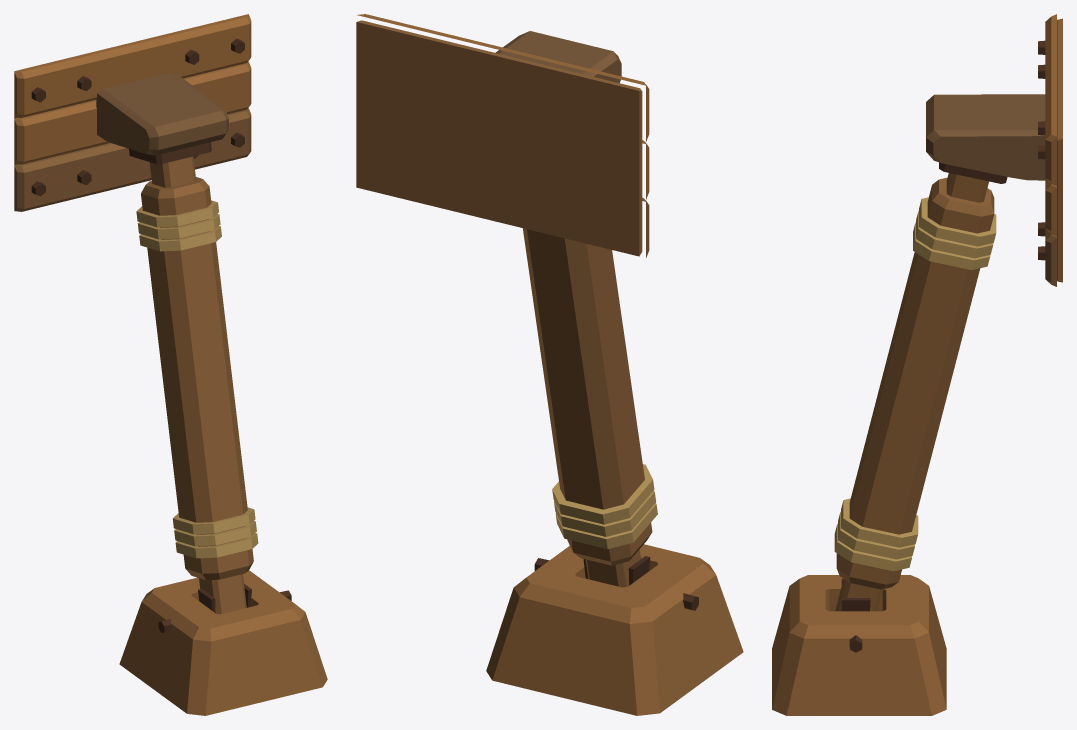
Rendered from retrofit-wall-buttress-4e89f7.glb.
The picture shows the model from 3 angles, left to right: view 1: azimuth 30°, elevation 25°; view 2: azimuth 150°, elevation 25°; view 3: azimuth 270°, elevation 25°; orthographic projection. The views are drawn at different scales.
Visible parts, largest first — view 1: wall-mount-mesh, brace-mesh, foot-mesh; view 2: wall-mount-mesh, foot-mesh, brace-mesh; view 3: brace-mesh, foot-mesh, wall-mount-mesh.
Boxes of the visible parts, box(x1,y1,x2,y2) form: wall-mount-mesh: box(14, 14, 251, 211); brace-mesh: box(136, 156, 258, 614); foot-mesh: box(119, 570, 327, 715); wall-mount-mesh: box(356, 14, 649, 257); foot-mesh: box(486, 544, 743, 715); brace-mesh: box(523, 228, 657, 587); brace-mesh: box(834, 173, 996, 611); foot-mesh: box(772, 575, 946, 715); wall-mount-mesh: box(926, 14, 1062, 286).
Bounding box in the file's own units: 1 × 2.29 × 1.
